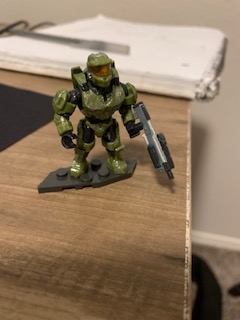chief: (50, 49, 143, 181)
rifle: (128, 101, 177, 181)
spartan: (48, 47, 141, 179)
